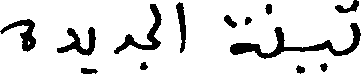ا: (175, 0, 183, 54)
ة: (223, 12, 256, 54), (0, 17, 35, 52)
ت: (336, 0, 360, 56)
ج: (135, 25, 163, 69)
د: (57, 26, 78, 53), (111, 32, 131, 55)
ل: (139, 1, 159, 32)
ن: (264, 1, 283, 59)
ي: (294, 37, 330, 72), (80, 24, 95, 72)
